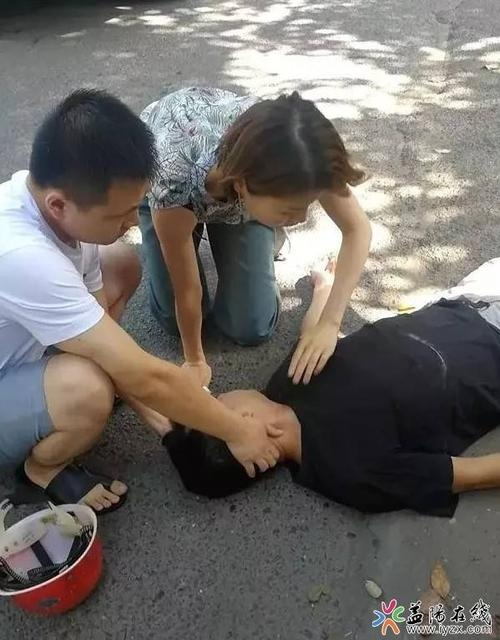falling: (176, 221, 491, 545)
